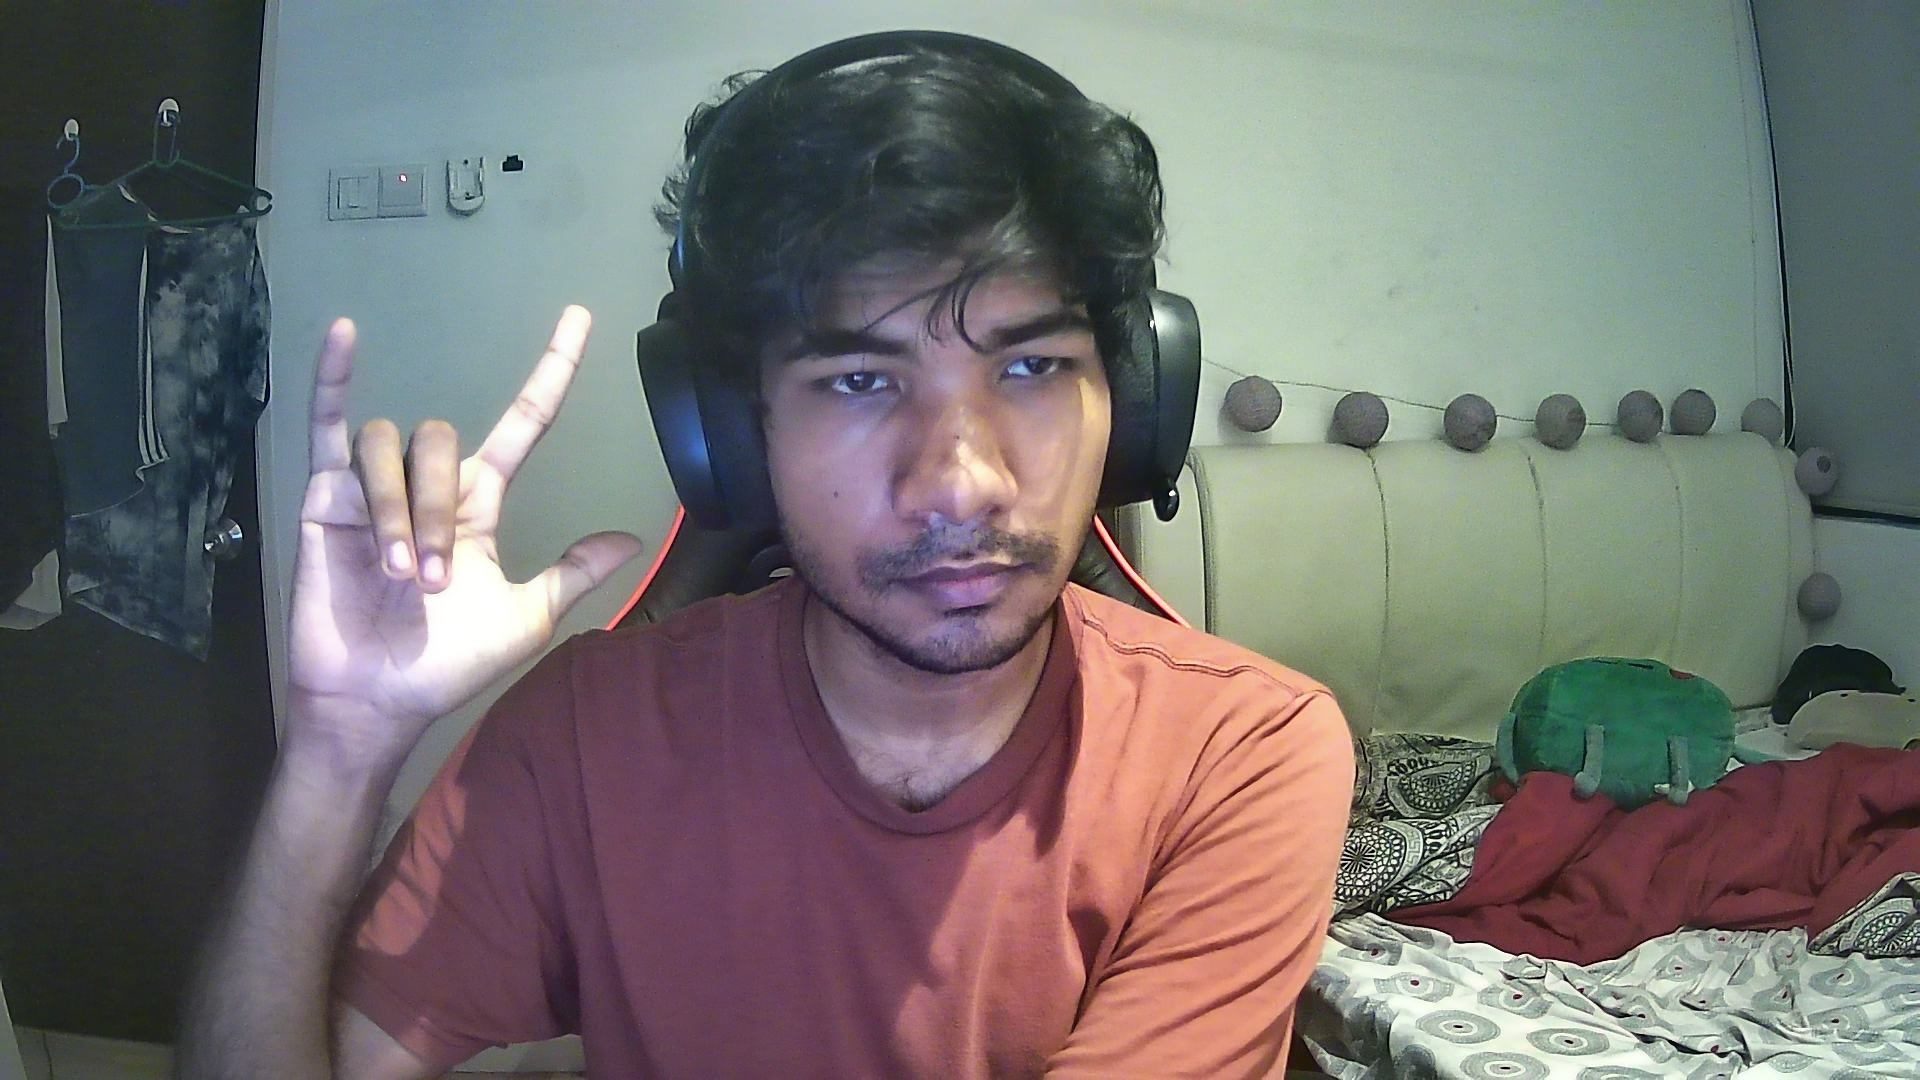I Love You: (258, 295, 649, 720)
